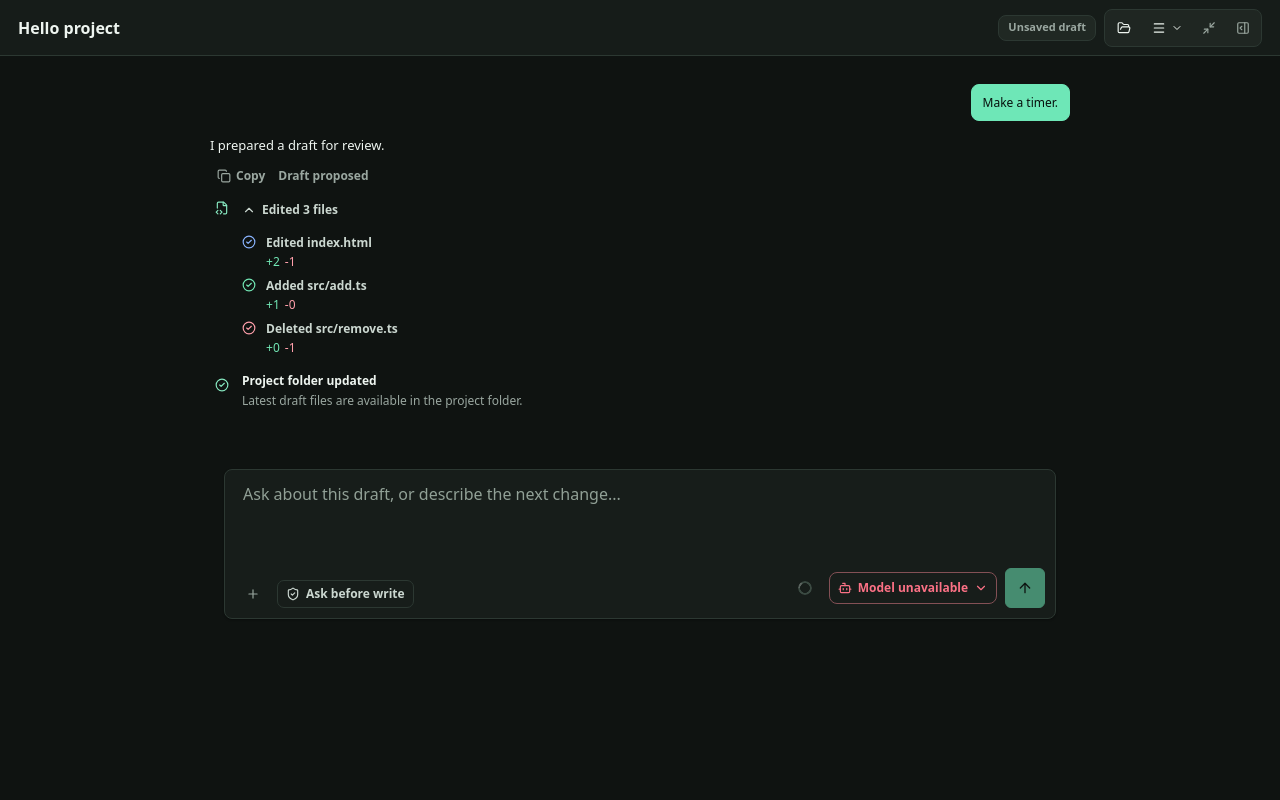
Scenario: BuilderPage v2 › keeps draft completion in the conversation without mounting review landing cards
(page scrolled)
Step 1. Click the button named "Workspace menu" → coordinates (1167, 28), box left=1144, top=12, right=1190, bottom=42
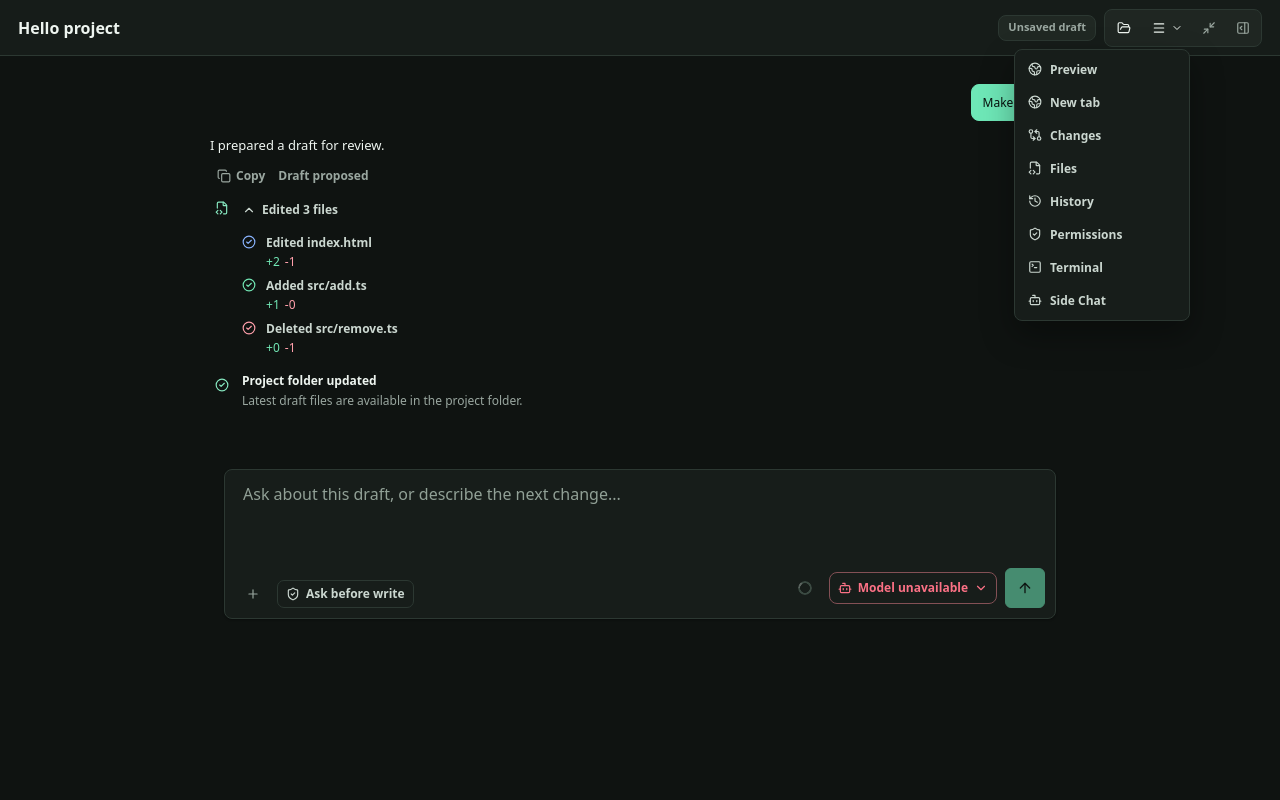
Check: the menu item "Changes" is shown
Step 2. Click the menu item "Changes" → coordinates (1102, 135), box left=1019, top=120, right=1185, bottom=150
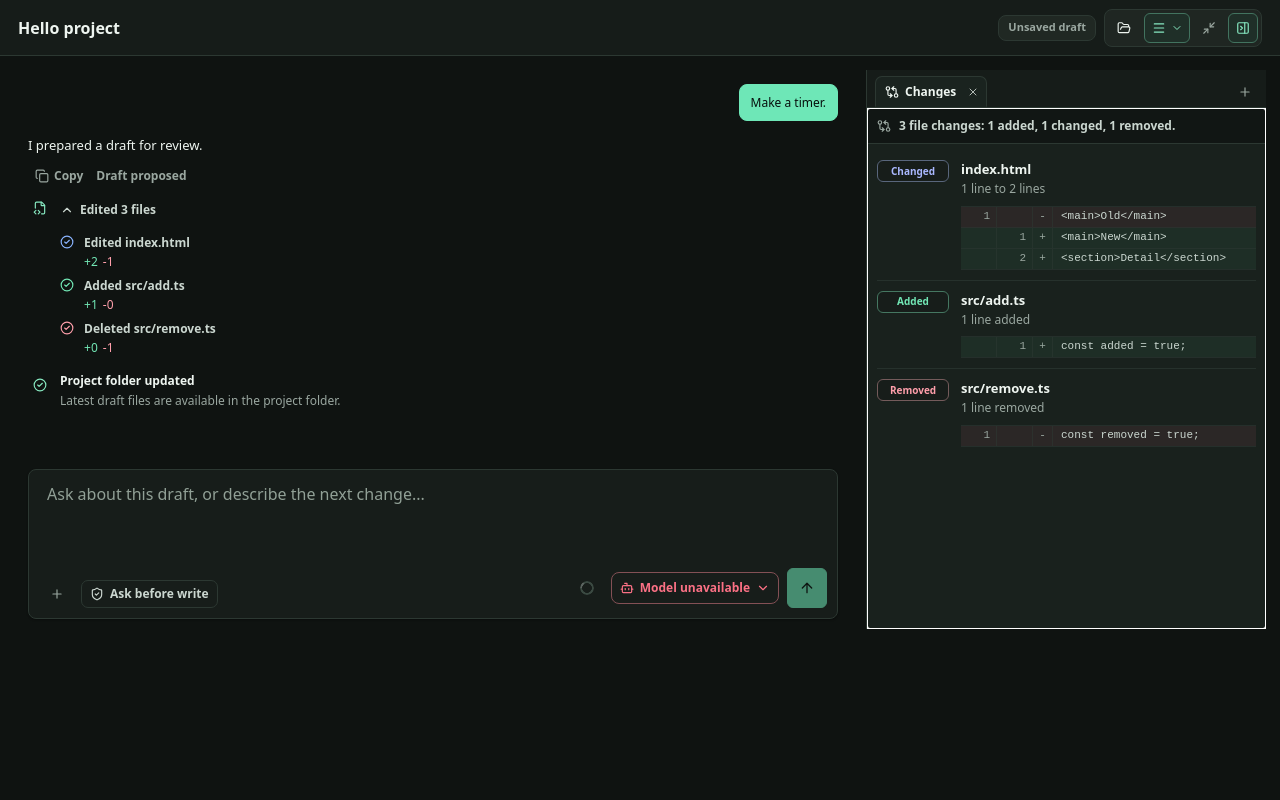
Check: the element named "Project artifact" is shown, box left=866, top=70, right=1266, bottom=629
